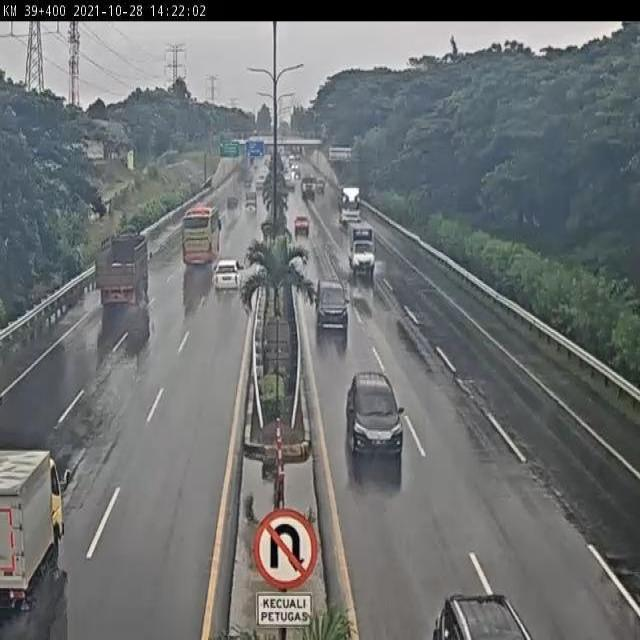Bus: (179, 197, 220, 271)
Car: (336, 362, 411, 462), (432, 592, 534, 638), (315, 280, 350, 346), (213, 258, 244, 290), (301, 177, 316, 200), (294, 216, 309, 236), (245, 190, 257, 212), (283, 170, 295, 190), (255, 170, 267, 190), (316, 178, 325, 194), (227, 196, 238, 209)
Truck: (0, 439, 72, 611), (92, 222, 153, 306), (348, 225, 376, 280), (339, 185, 361, 225)
